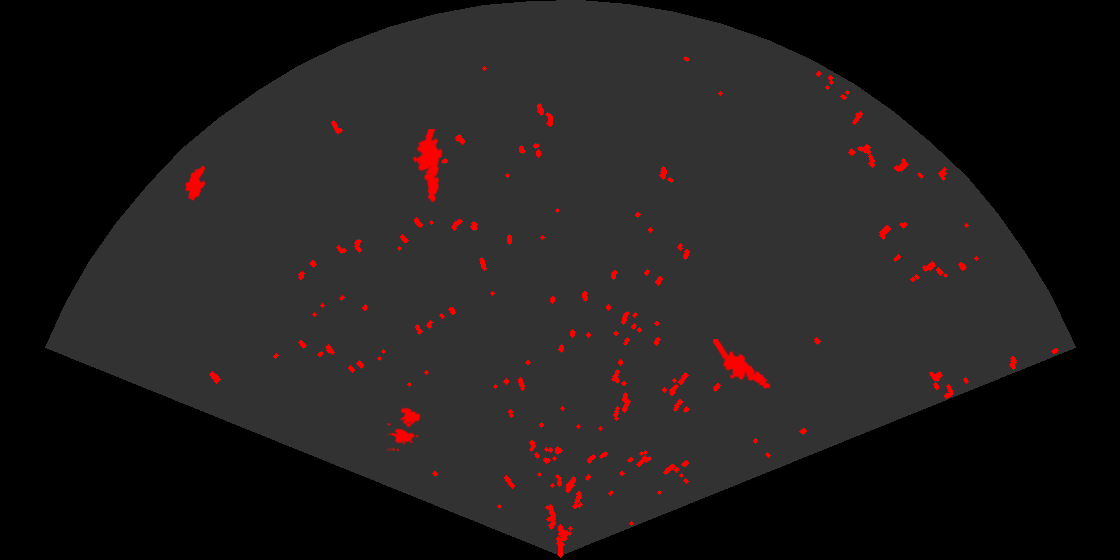AUV: (183, 164, 207, 203)
cage: (387, 406, 422, 451)
frogman: (713, 339, 772, 391), (411, 129, 444, 204)
